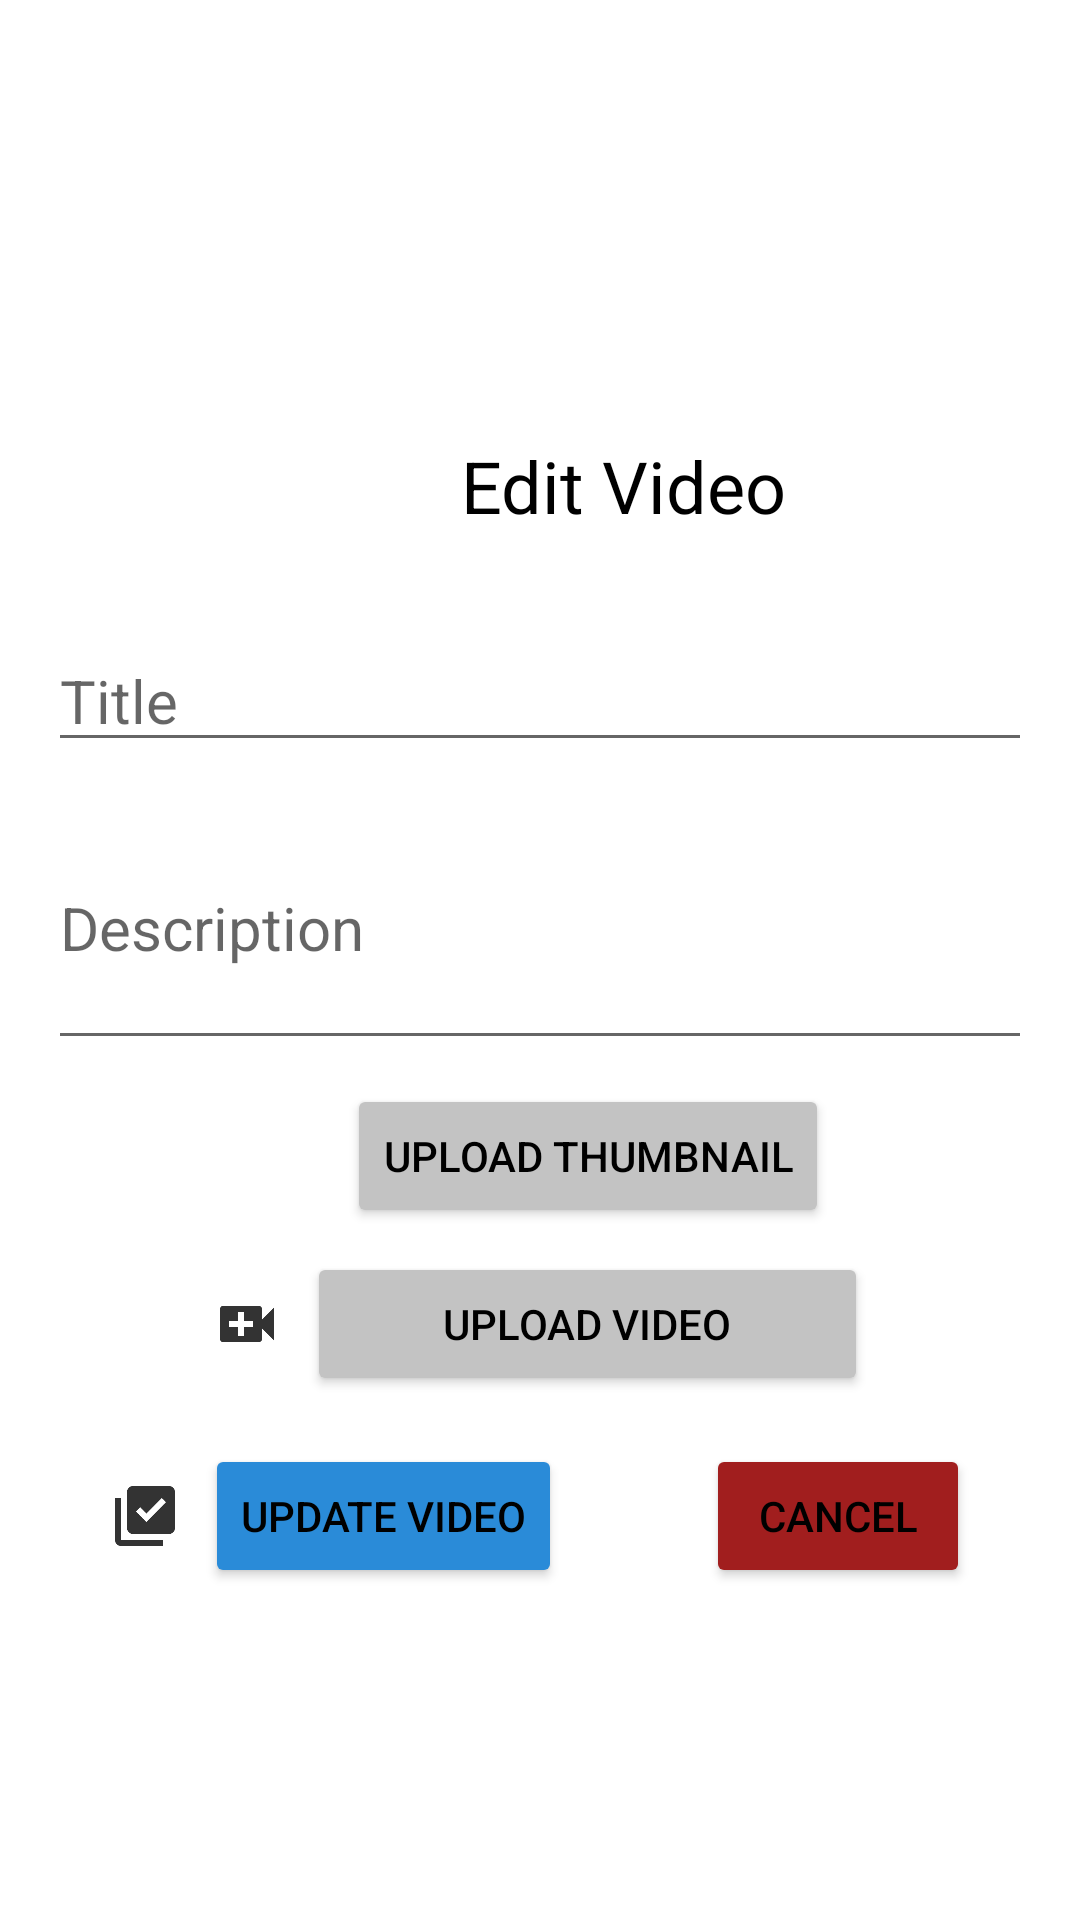

Where icons sit on this 1080px x 1920px app screen, as (x1, y1, x2, y2):
Submit Icon: (115, 1486, 175, 1546)
